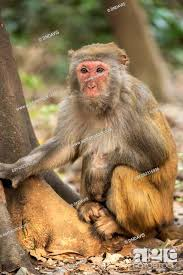monkey: (42, 10, 178, 259)
